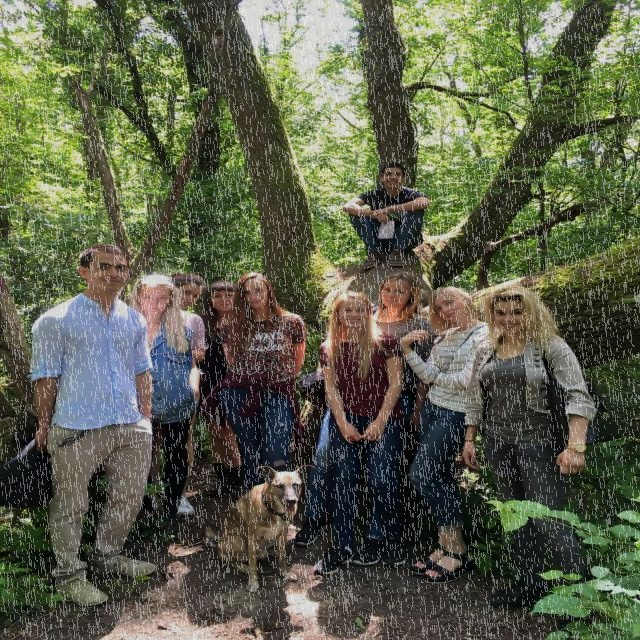pessoa: (460, 284, 625, 634), (24, 242, 158, 608), (290, 270, 440, 566), (396, 284, 502, 586), (310, 289, 406, 576), (198, 272, 308, 497), (123, 274, 201, 542), (147, 270, 210, 518), (196, 279, 250, 502), (340, 161, 430, 270)
